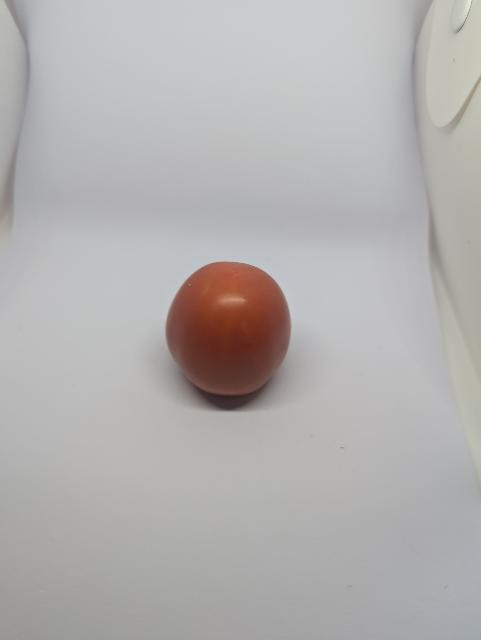red: (159, 257, 318, 420)
